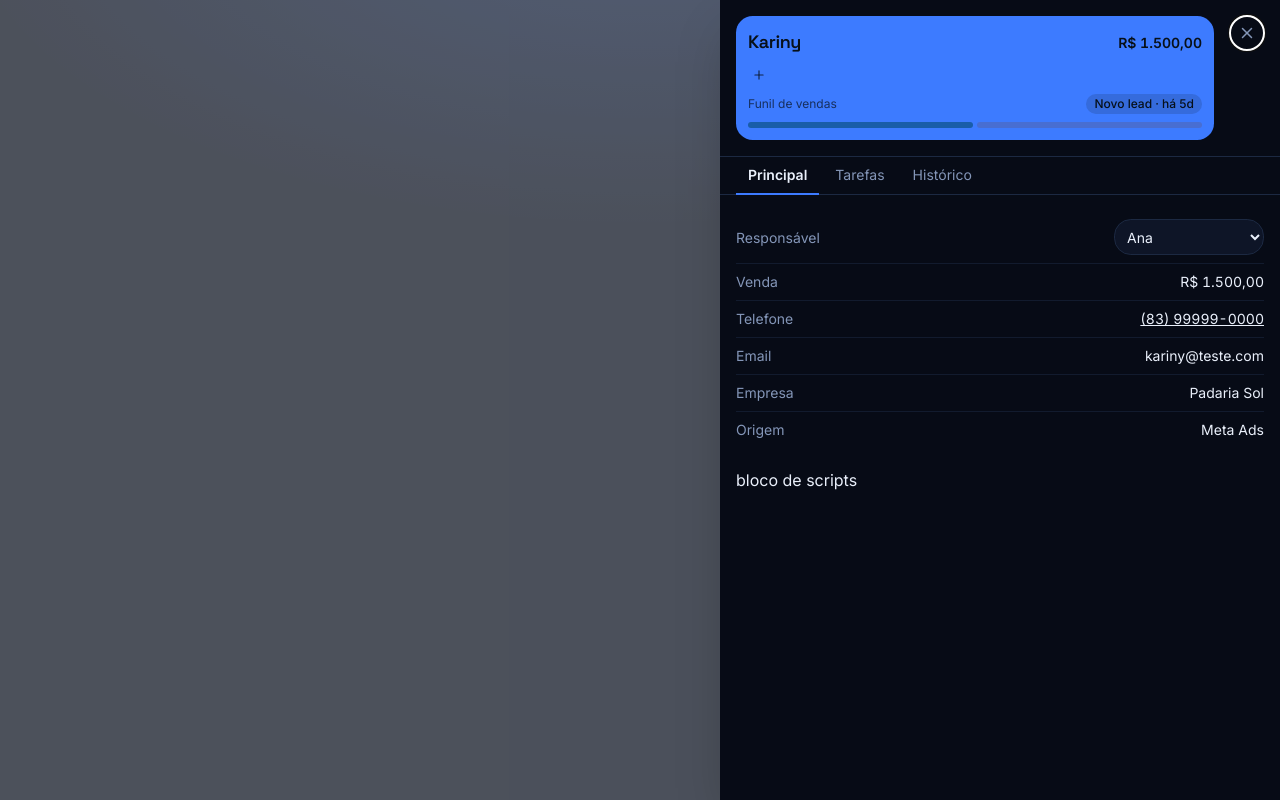
Test case: DrawerLead › evento pipeline_alterada nomeia as etapas das DUAS pipelines, nao so a atual
The image size is (1280, 800).
Step 1. Click the tab "Histórico" → (942, 176), box [901,157,984,195]
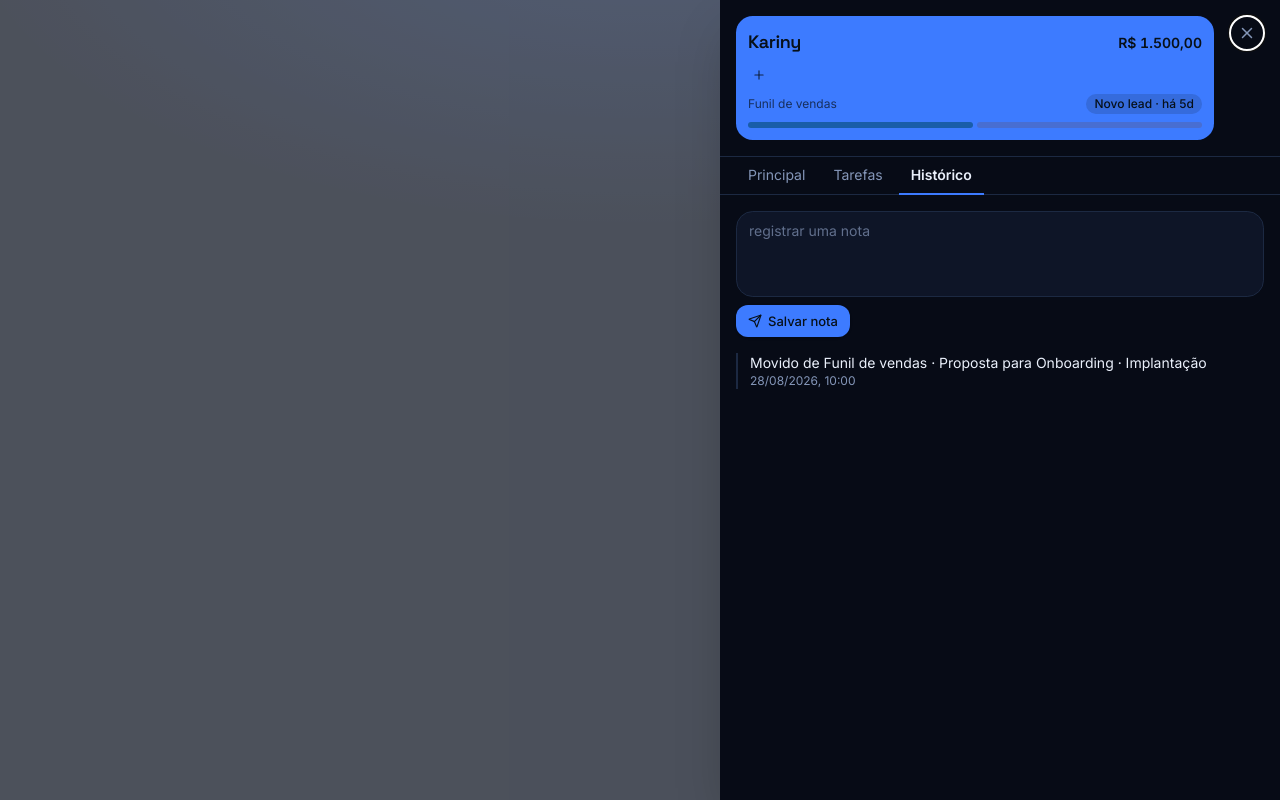
Expected: the text "Movido de Funil de vendas · Proposta para Onboarding · Implantação" is shown, [750,353,1264,373]
